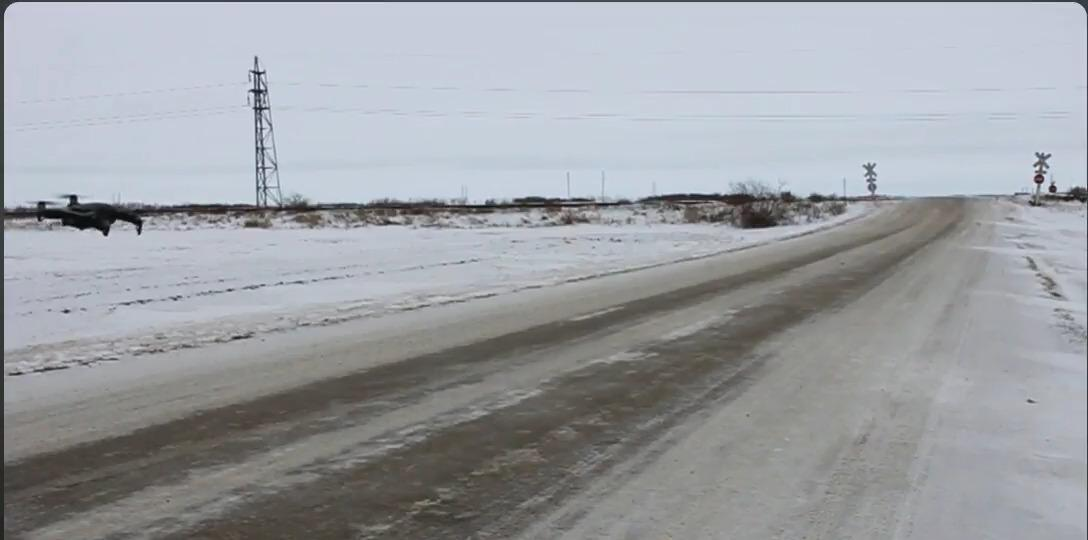dr: (23, 190, 155, 237)
